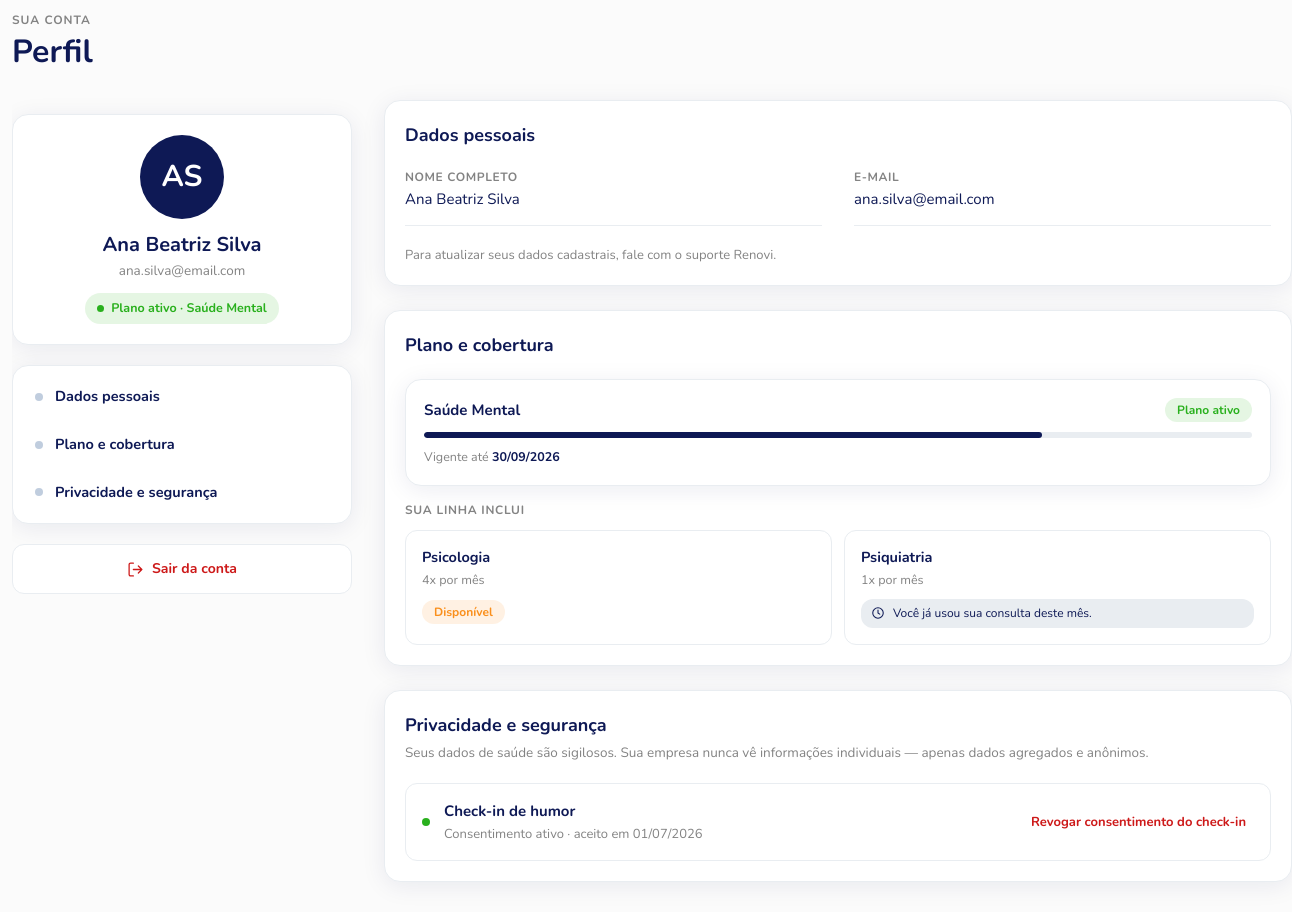
ProfilePage › revoga o consentimento quando o usuário confirma
What coordinates should you click on to do the following:
click the button "Revogar consentimento do check-in"
I would click on:
 (1138, 822)
Its box is x1=1023 y1=808 x2=1254 y2=836.
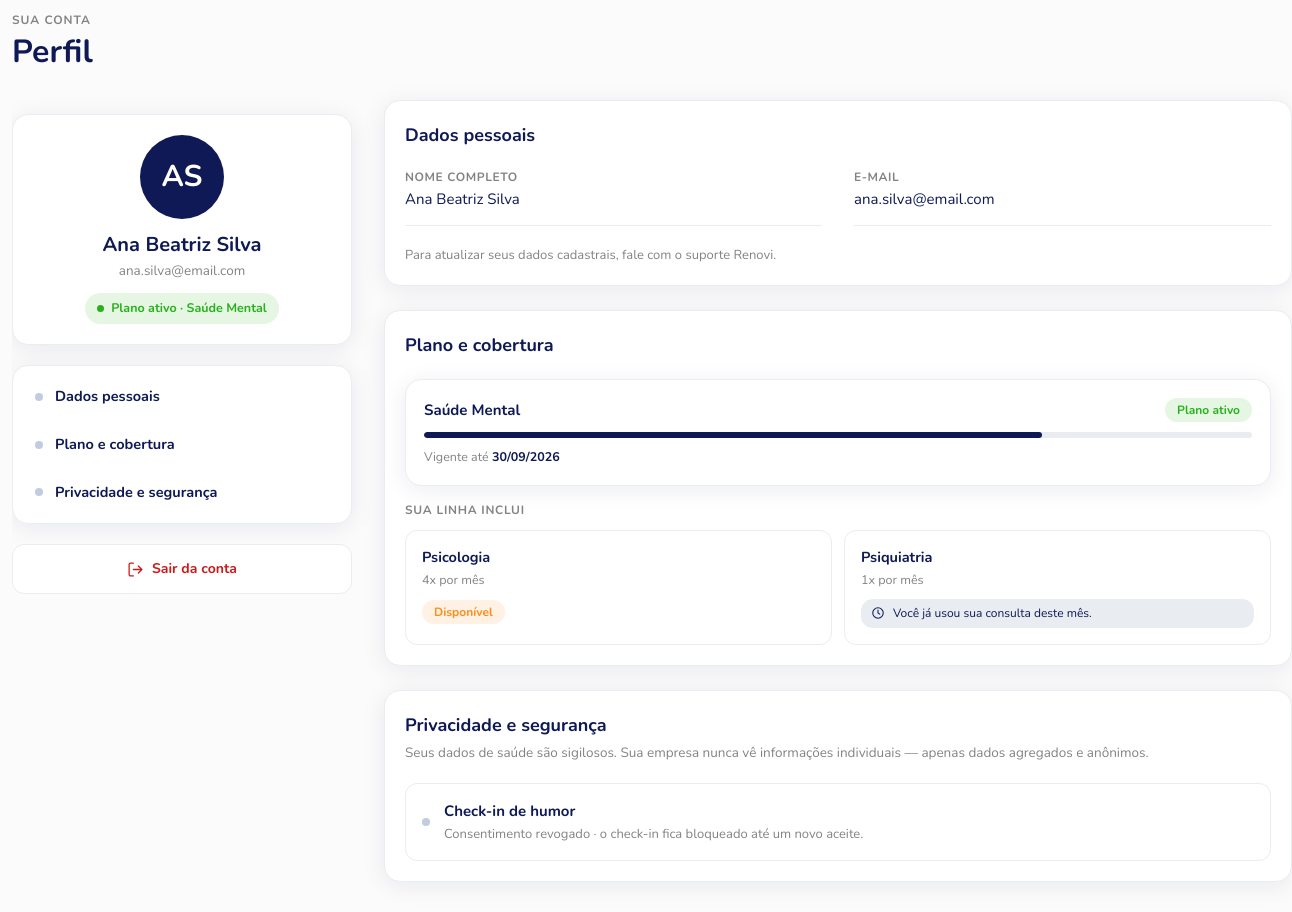
Result: the button "Revogar consentimento" is gone
